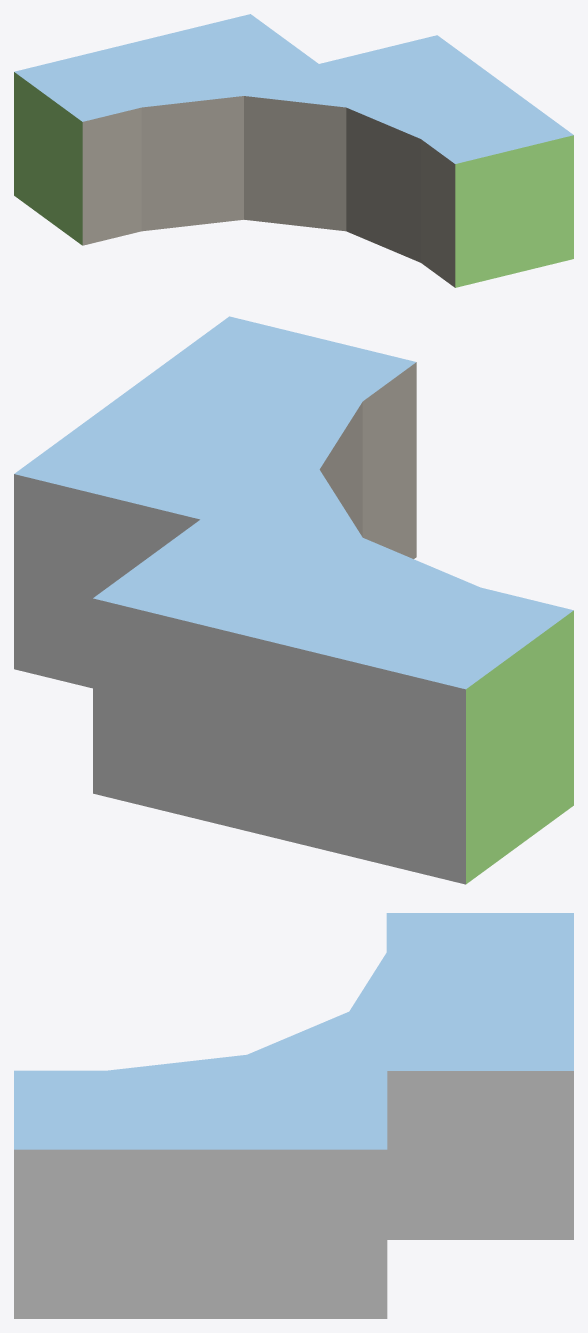
The model's file is Wall_Curve_Inner_3x3_Mid.glb.
The picture shows the model from 3 angles, top to bottom: view 1: azimuth 30°, elevation 25°; view 2: azimuth 150°, elevation 25°; view 3: azimuth 270°, elevation 25°; orthographic projection. The views are drawn at different scales.
Visible parts, largest first — view 1: Wall_Curve_Inner_3x3_Mid; view 2: Wall_Curve_Inner_3x3_Mid; view 3: Wall_Curve_Inner_3x3_Mid.
Boxes of the visible parts, x1=… form: Wall_Curve_Inner_3x3_Mid: x1=14, y1=14, x2=573, y2=287; Wall_Curve_Inner_3x3_Mid: x1=14, y1=316, x2=573, y2=884; Wall_Curve_Inner_3x3_Mid: x1=14, y1=913, x2=573, y2=1318.
Bounding box in the file's own units: 300 × 100 × 300.
